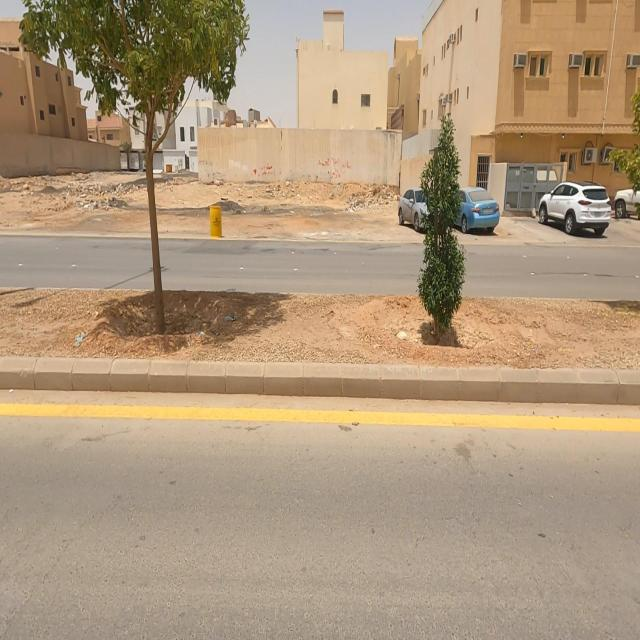Graffiti: (319, 157, 353, 181), (253, 162, 278, 178)
